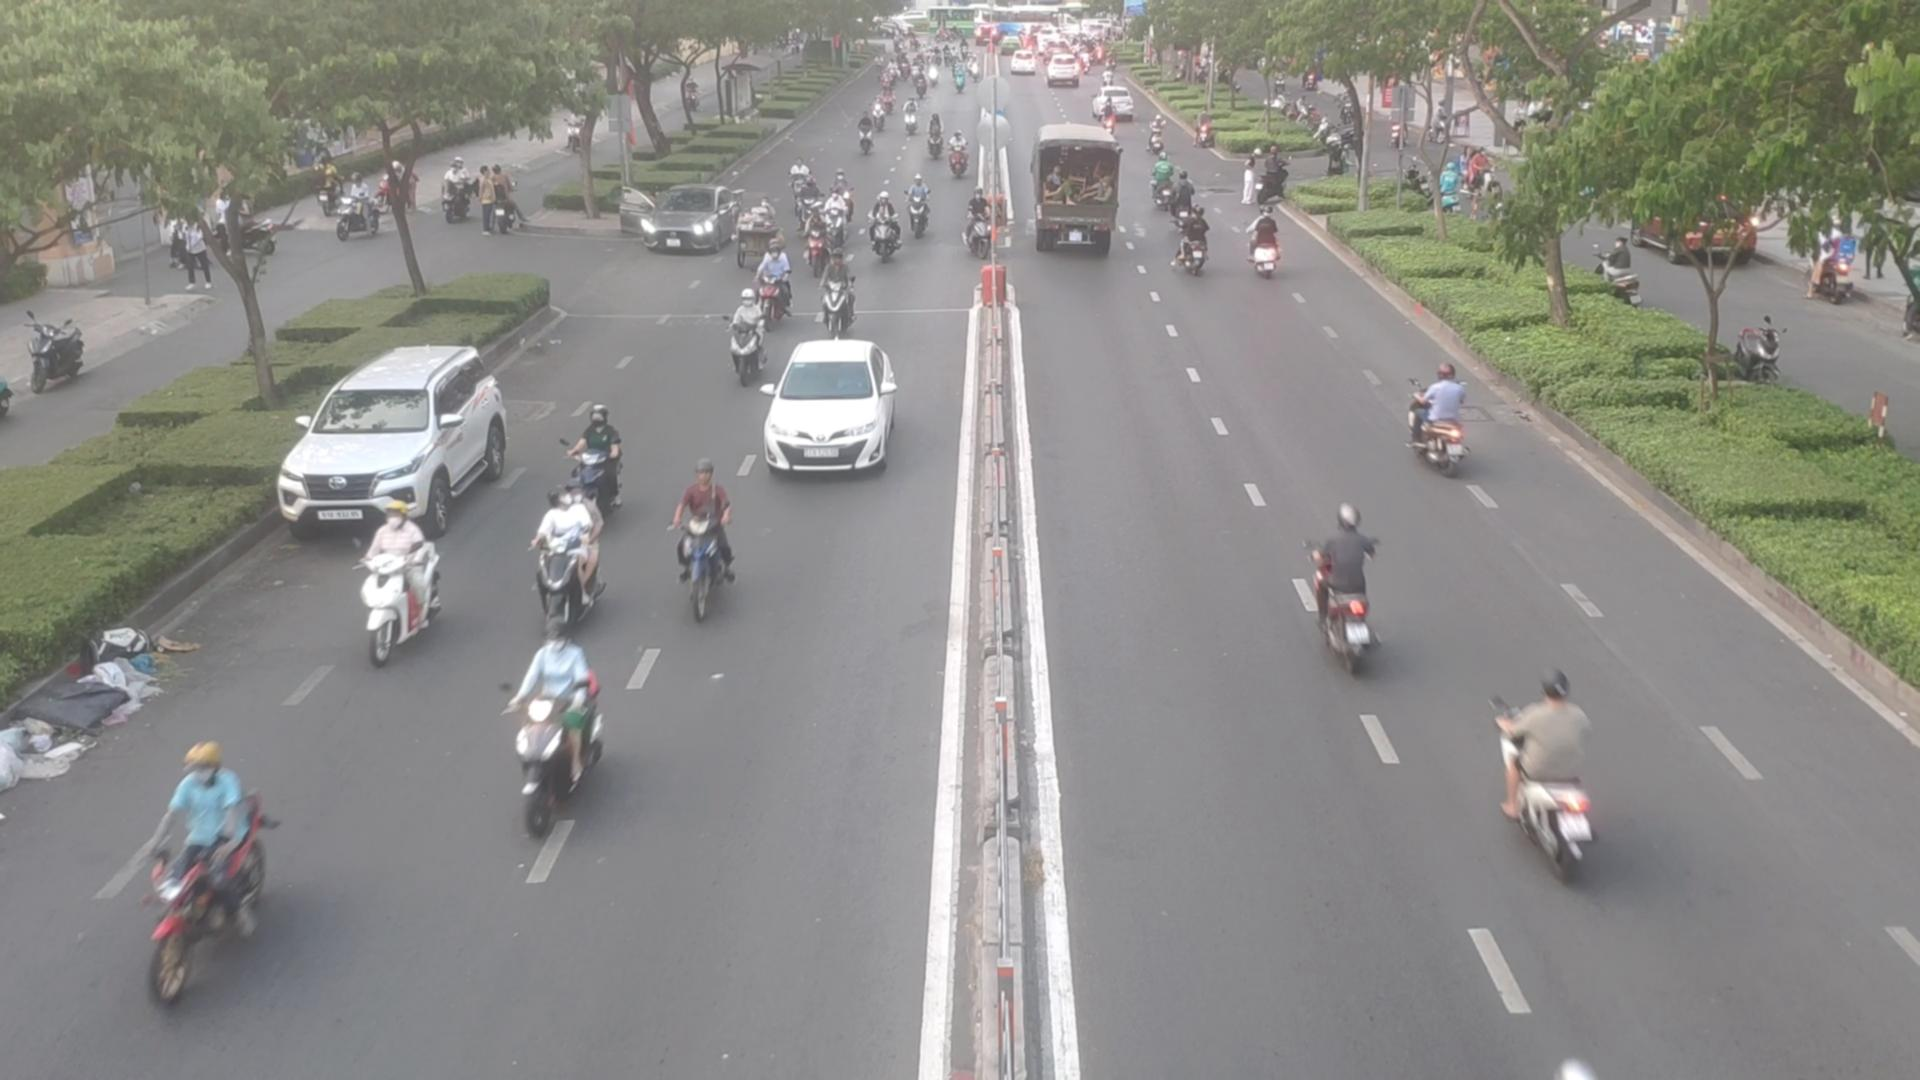car: (284, 343, 521, 527), (756, 339, 901, 472), (616, 191, 746, 258)
motorbike: (119, 746, 280, 1006), (1486, 680, 1607, 880), (506, 637, 622, 808), (1290, 509, 1387, 666), (352, 509, 451, 662), (670, 475, 756, 621), (527, 489, 603, 632), (1404, 367, 1484, 469), (566, 413, 632, 510), (721, 301, 771, 378), (971, 189, 1015, 258), (818, 265, 862, 334), (752, 258, 793, 324), (1147, 158, 1195, 208), (1247, 215, 1284, 276), (866, 208, 903, 262), (905, 178, 938, 236), (945, 138, 977, 182), (916, 123, 943, 160), (855, 119, 880, 156)
